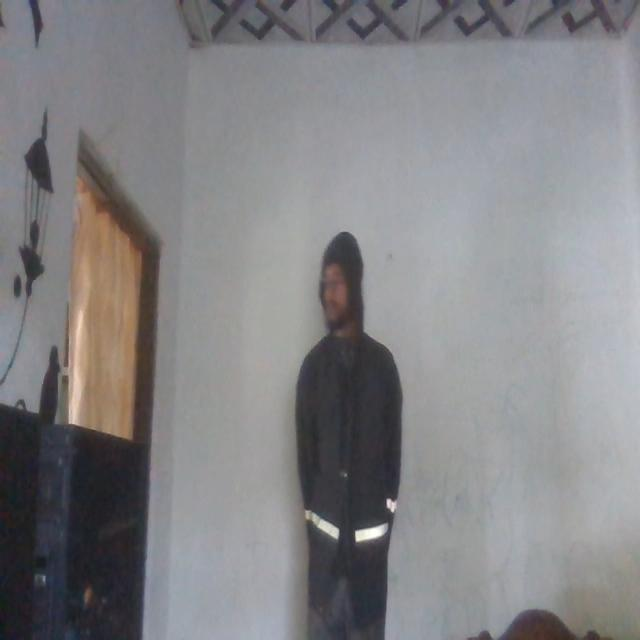Jacket_Wearer: (290, 331, 402, 615)
Person: (292, 238, 398, 640)
